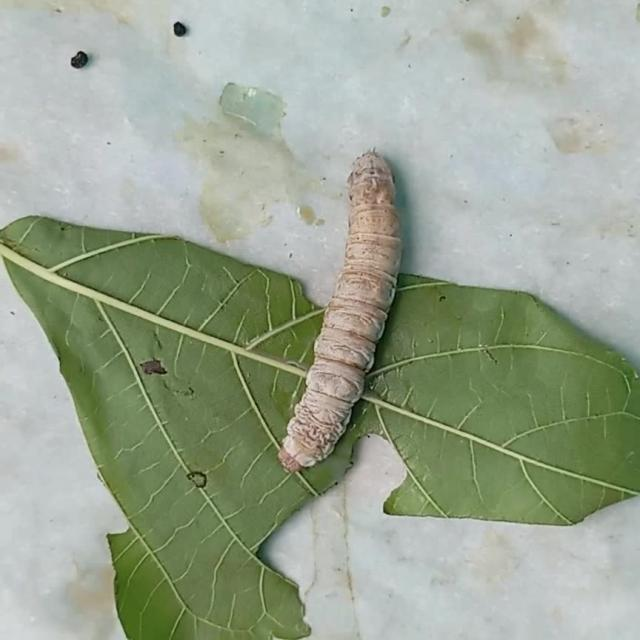Grasserie: (251, 105, 465, 520)
